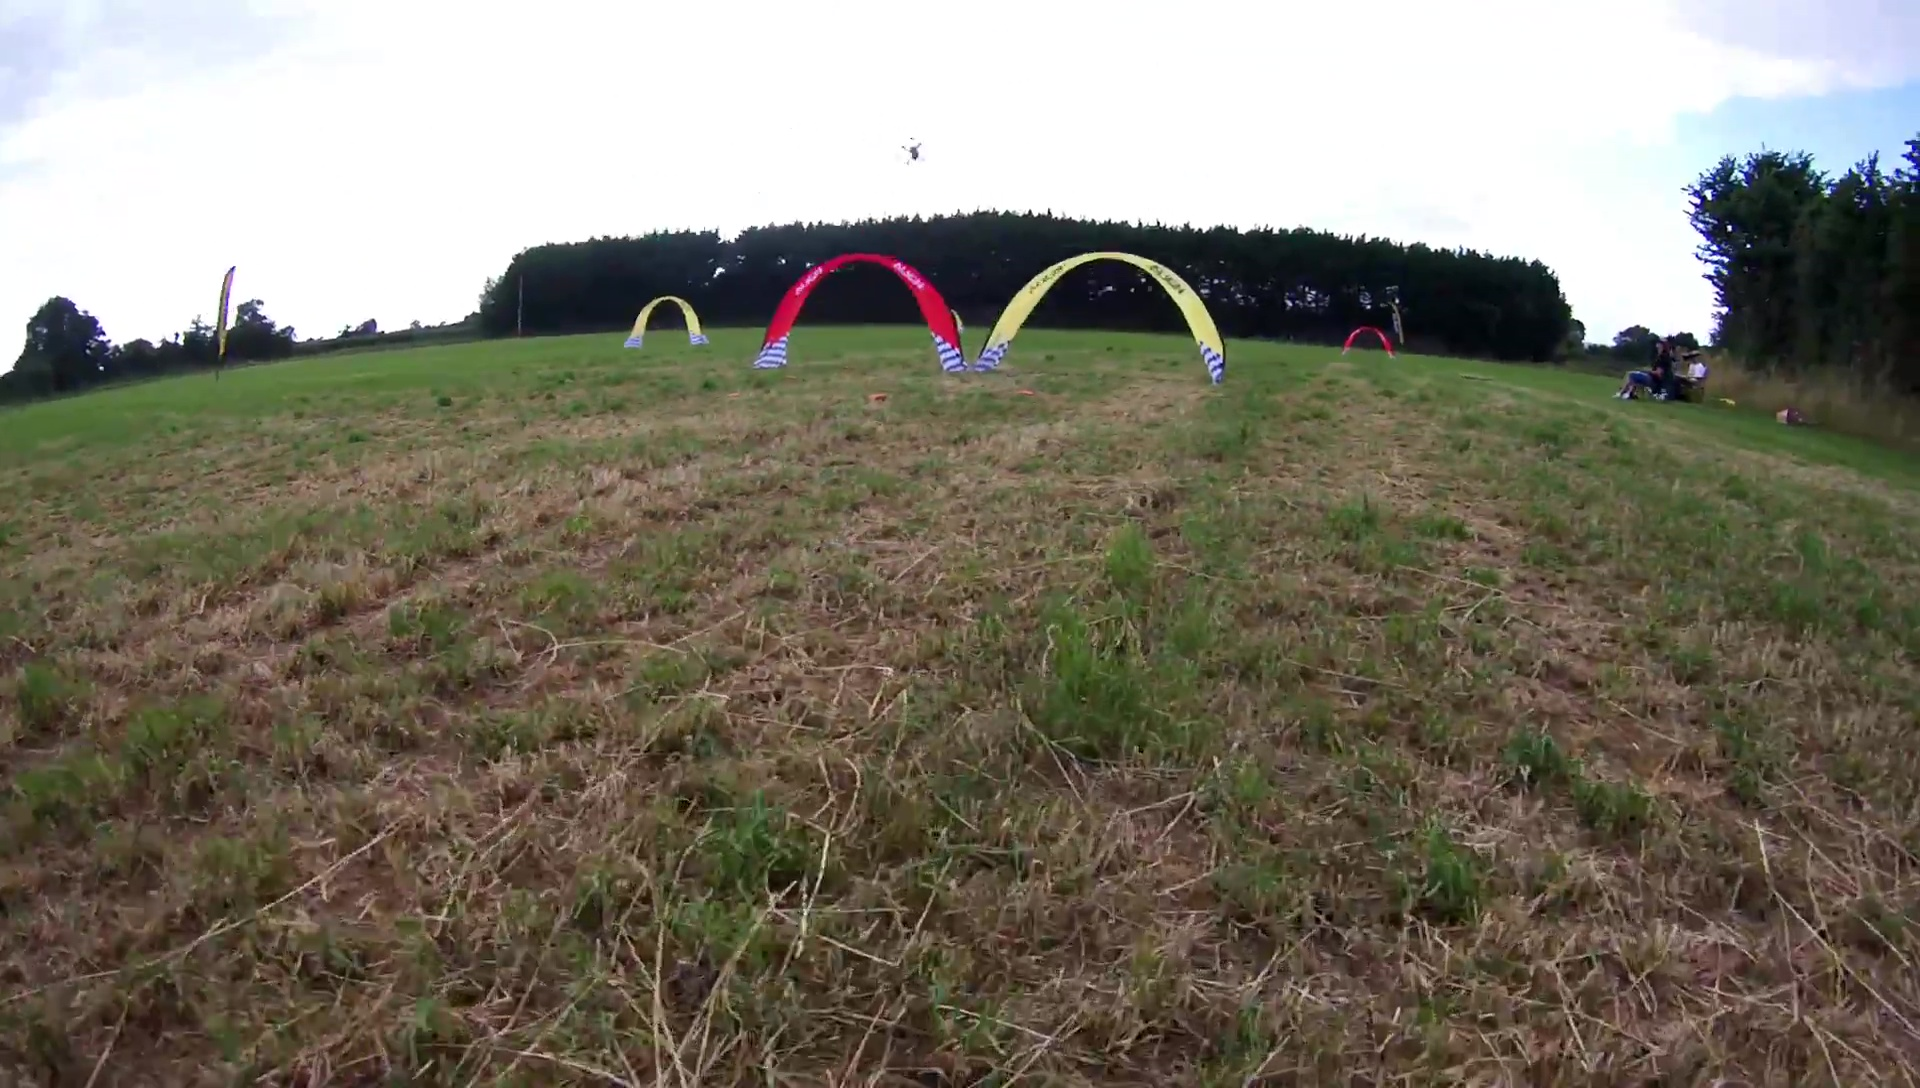gate: (975, 249, 1228, 384), (748, 251, 971, 375), (621, 294, 711, 352), (1341, 324, 1396, 359)
